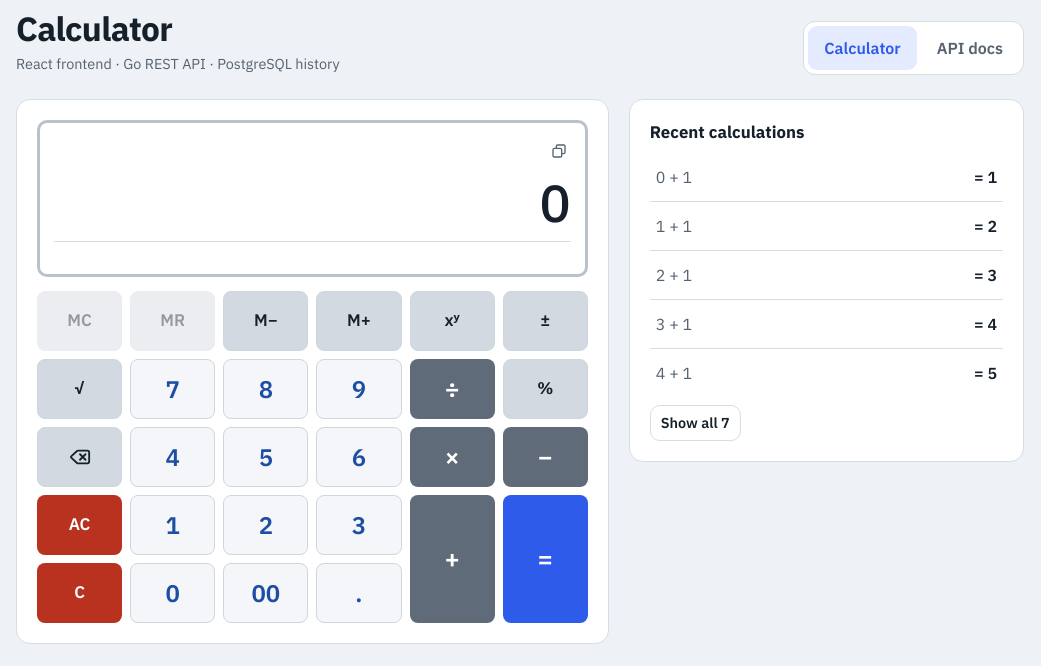
App › loads a history row into the calculator and shows more rows on demand
expect the text "0 + 1" is shown: met, box [656,165,692,189]
expect the text "6 + 1" is not shown: met
Click the button "Show all 7" at (695, 423), box [650,405,741,441]
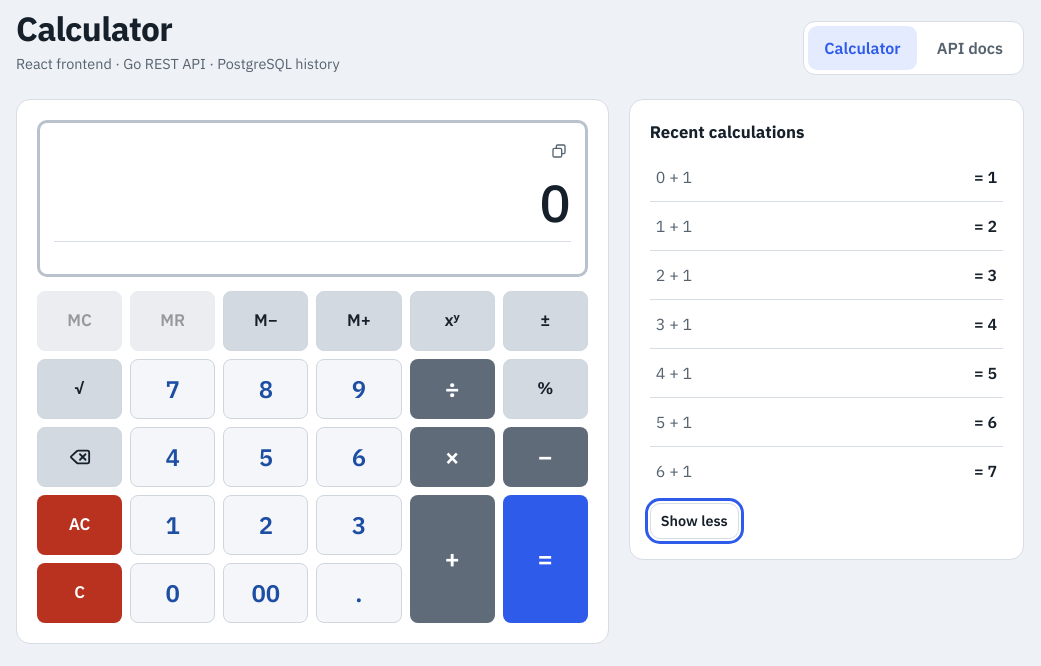
expect the text "6 + 1" is shown: met, box [656,459,692,483]
Click the button named "Load 6 + 1 = 7 into the calculator" at (674, 471), box [650,447,1003,495]
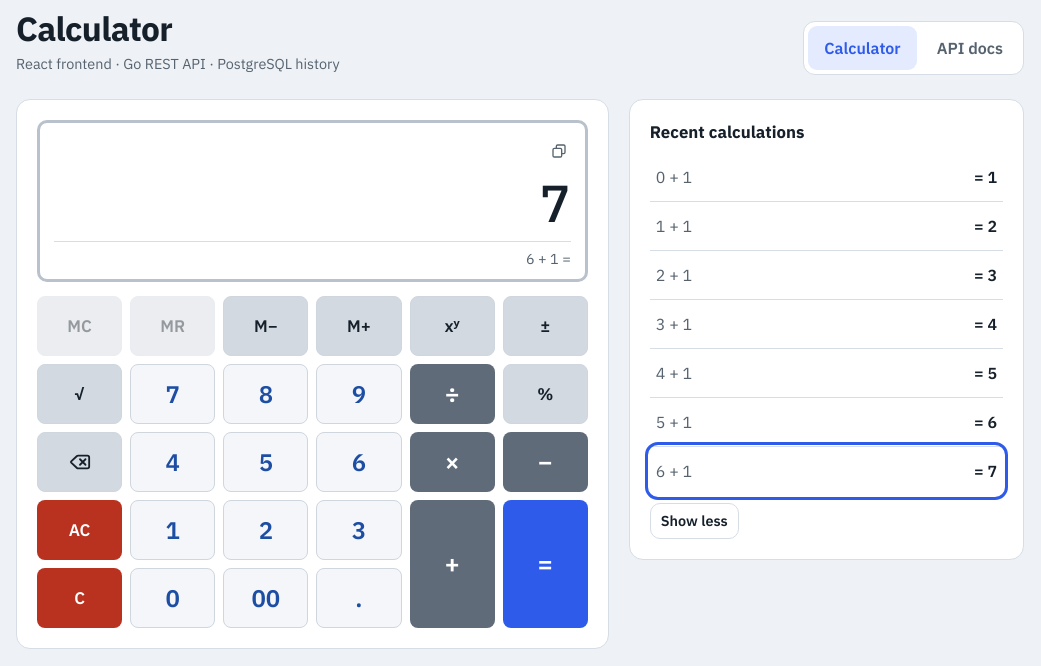
expect the text with test id "result" reads "7": met, box [540,169,571,236]
expect the text with test id "expression" reads "6 + 1 =": met, box [526,249,571,268]
